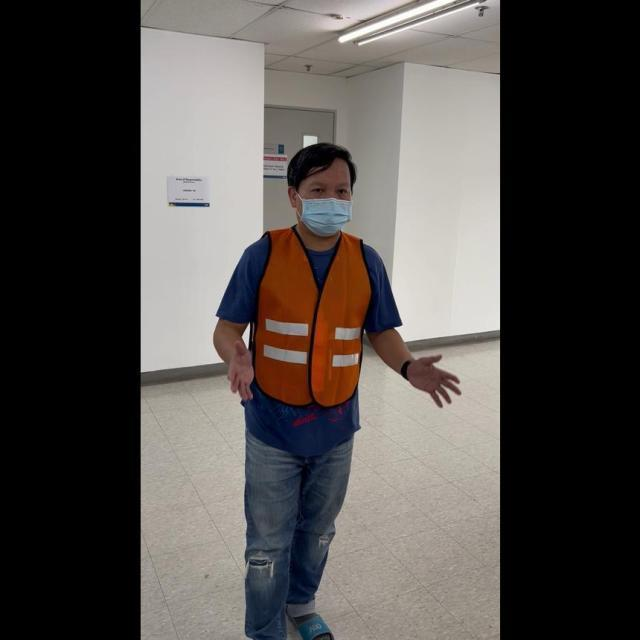bare_hand: (403, 350, 461, 409), (220, 334, 255, 403)
